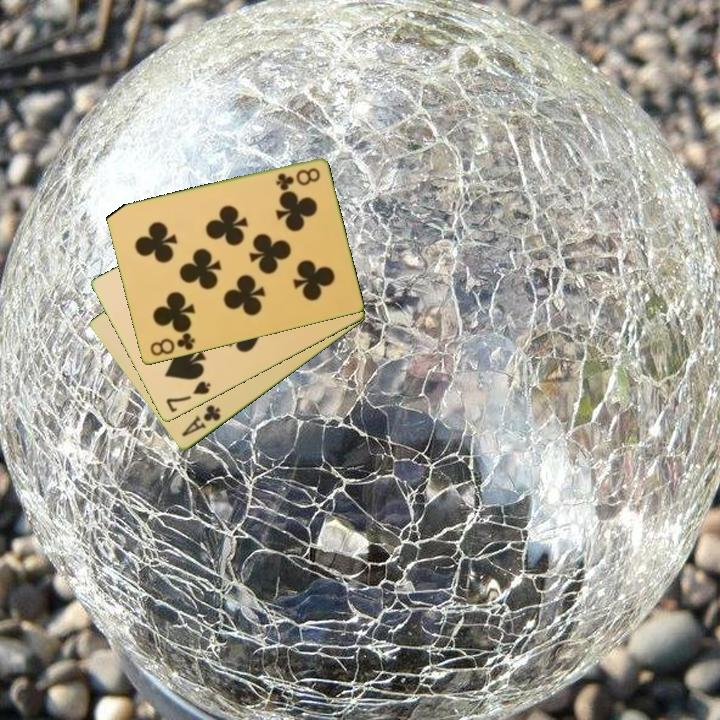7s: (162, 378, 214, 415)
8c: (146, 329, 198, 359), (272, 165, 323, 192)
Ac: (178, 401, 224, 440)
